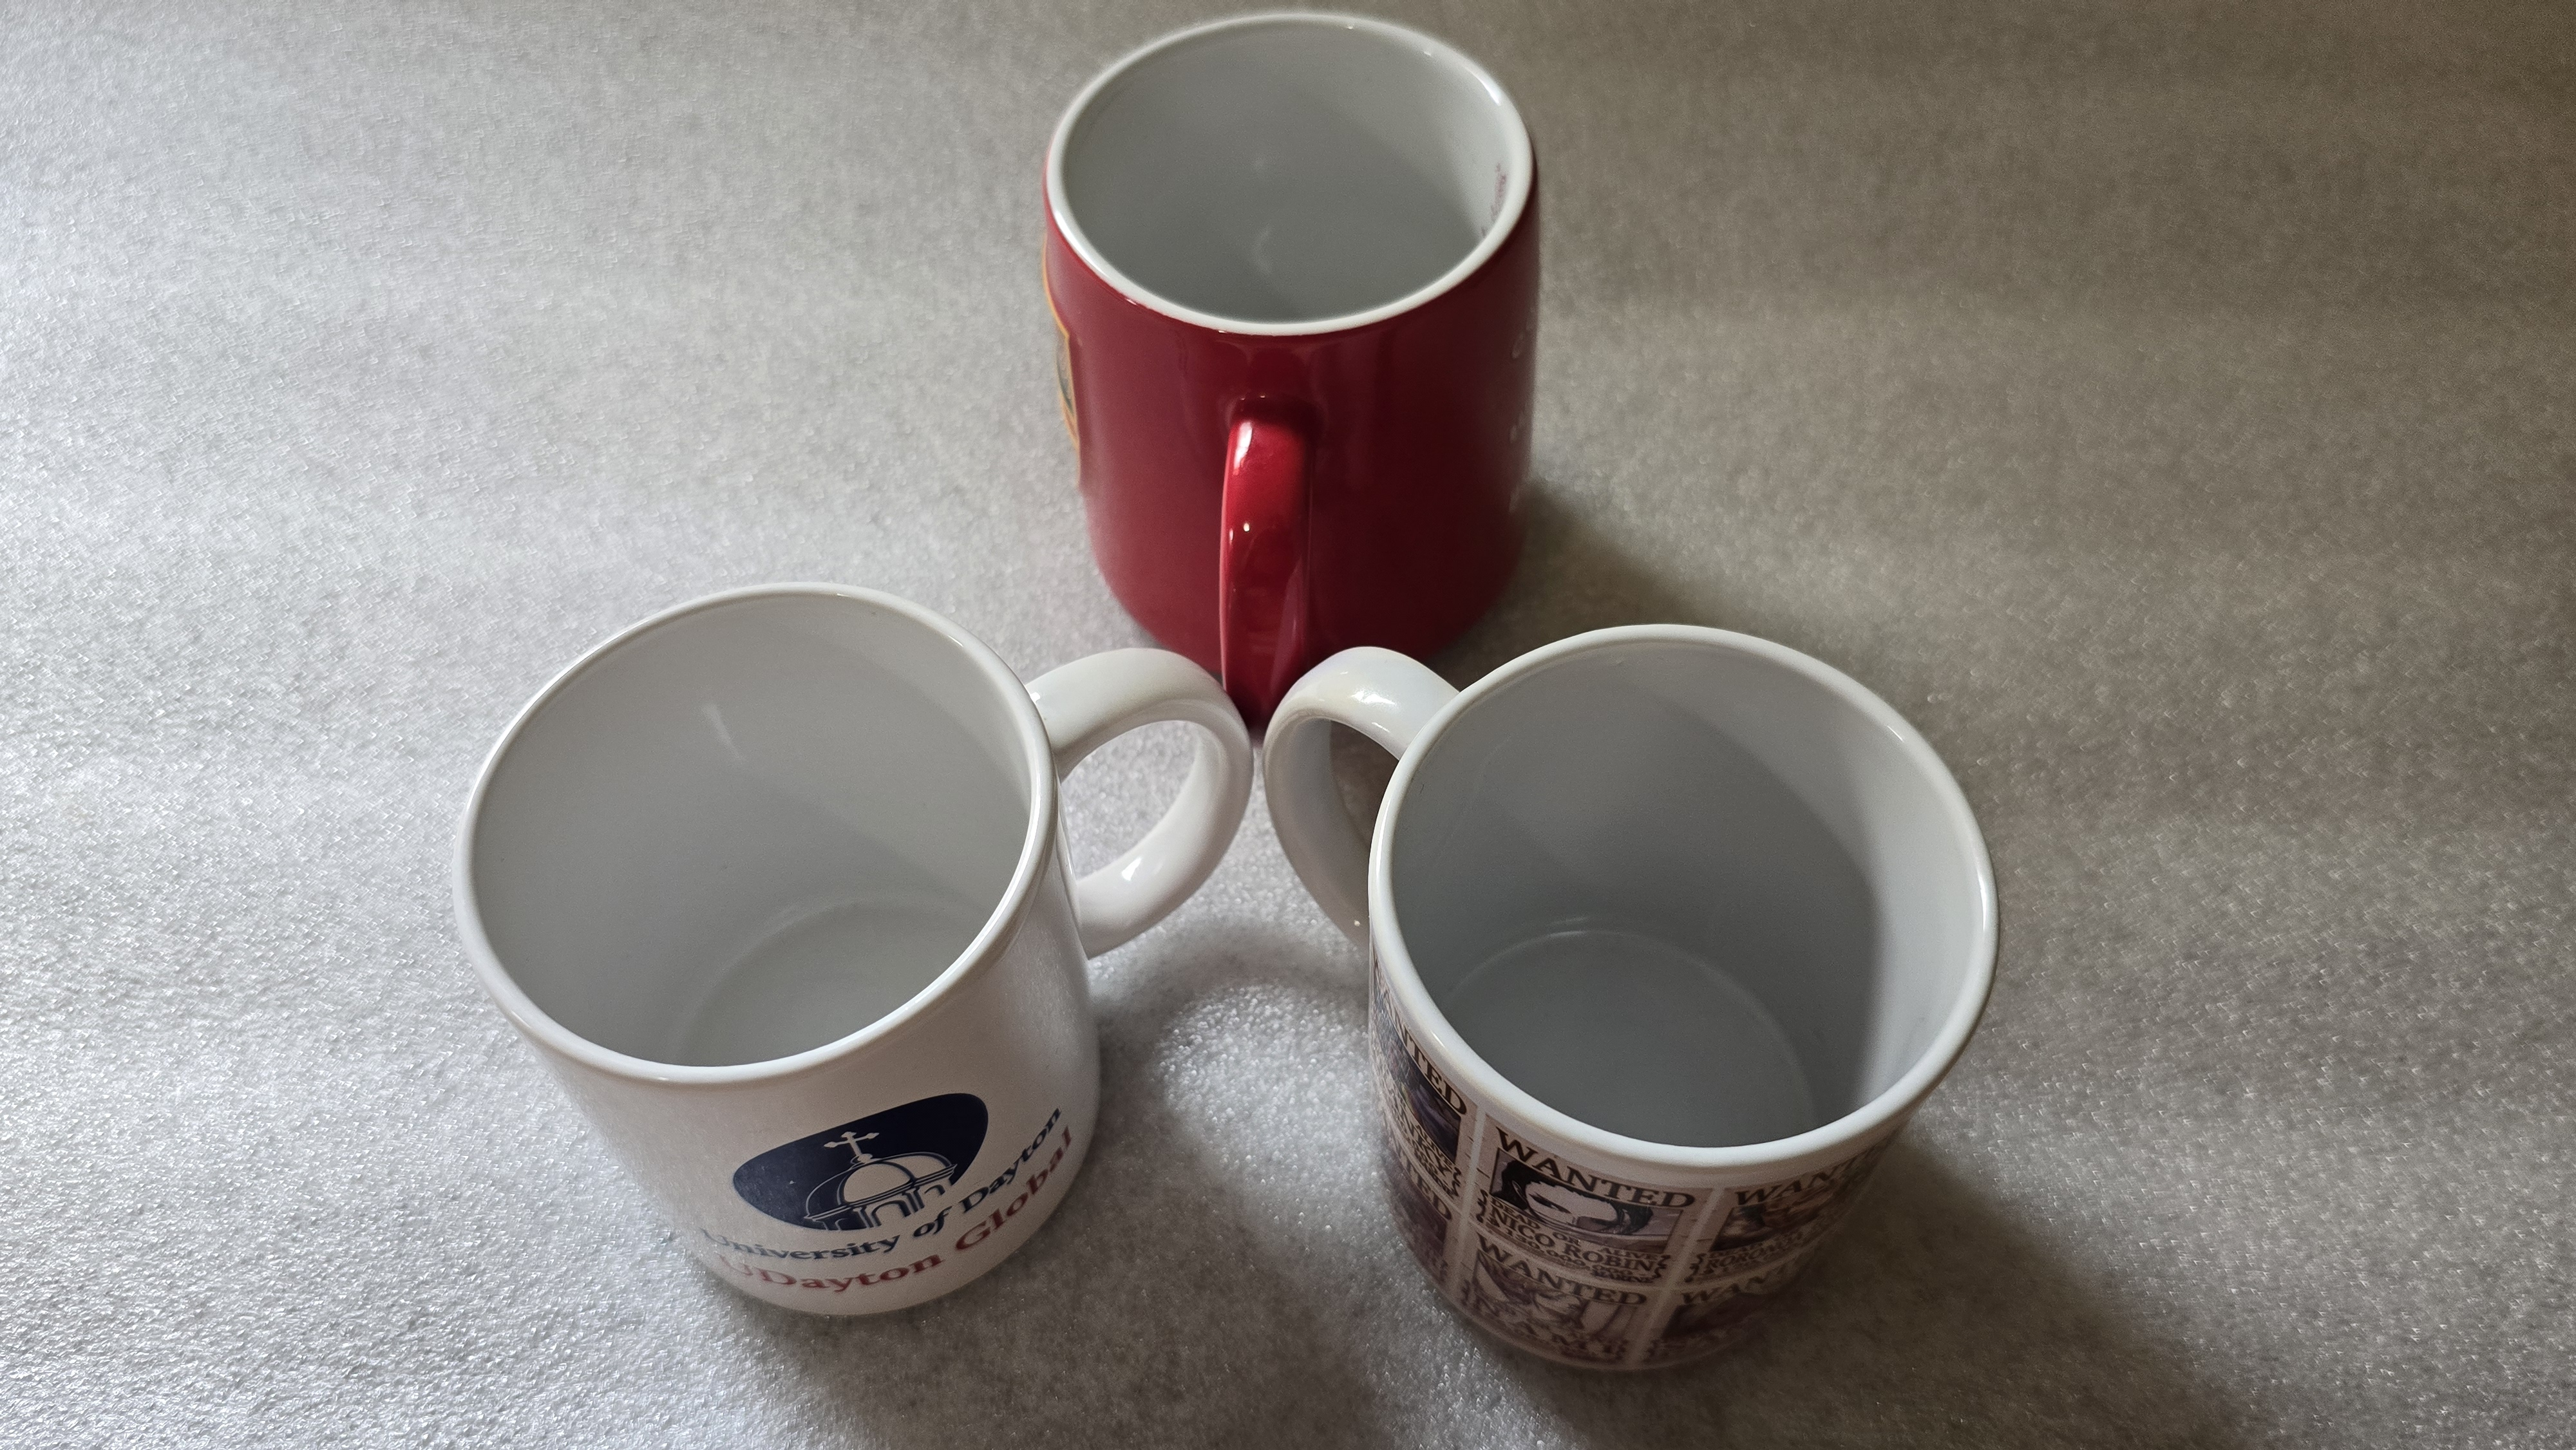mug: (448, 566, 1274, 1319), (1235, 610, 2029, 1393), (1001, 16, 1615, 697)
